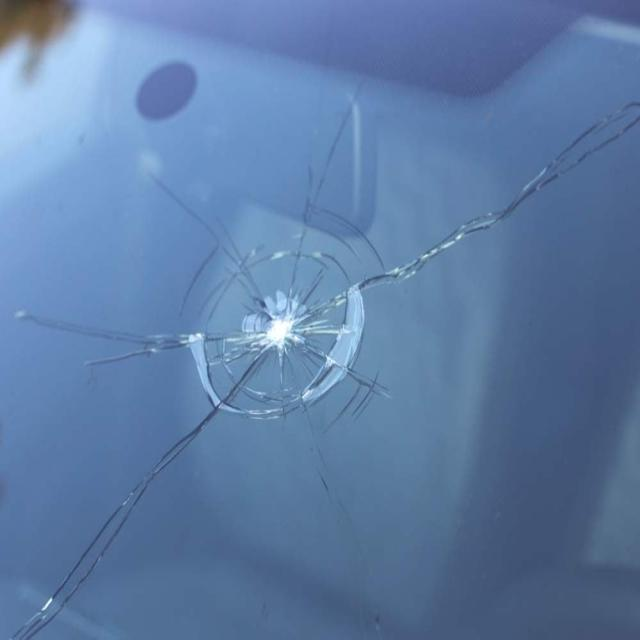crack: (0, 79, 640, 640)
